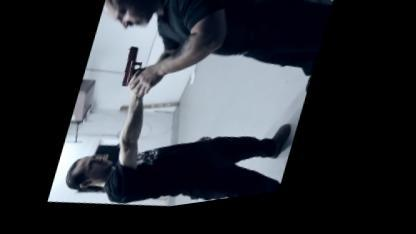pistol: (119, 48, 150, 94)
